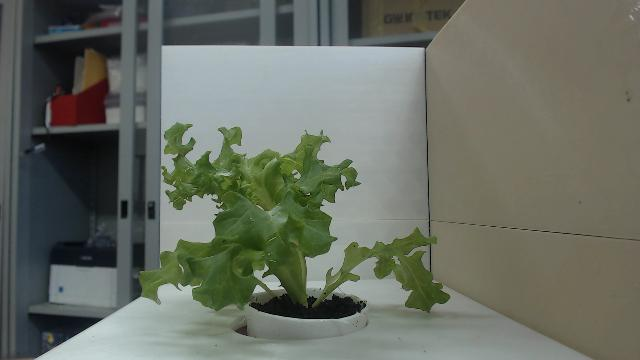Harvest Stage: (138, 119, 452, 318)
